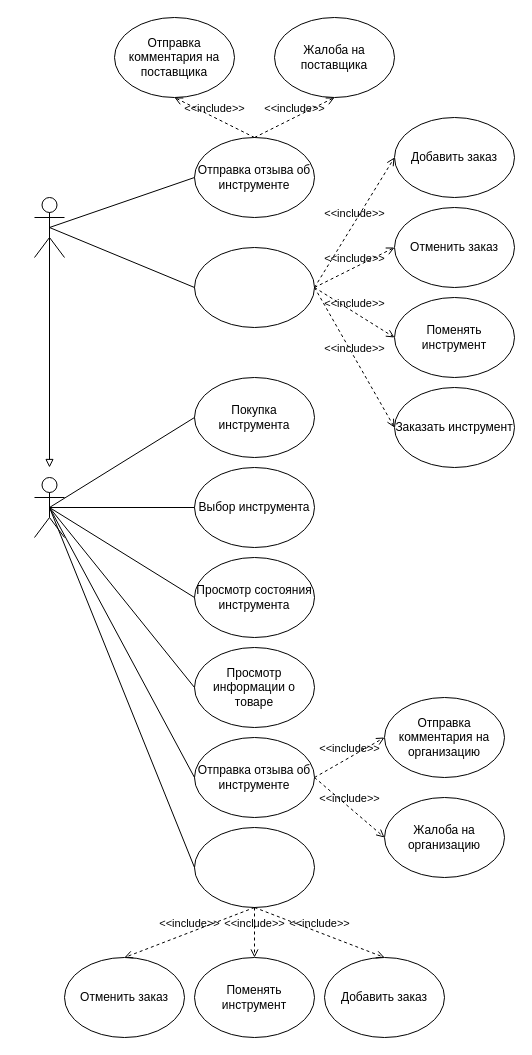
Image size: 532x1055. Some labels were removed from this diagram. Each missing label, with the centre of its shape:
Заказ доставкой: the point at 254,867
Менеджер: the point at 49,227
Покупатель: the point at 49,507
Управление заказами инструментов: the point at 254,287
